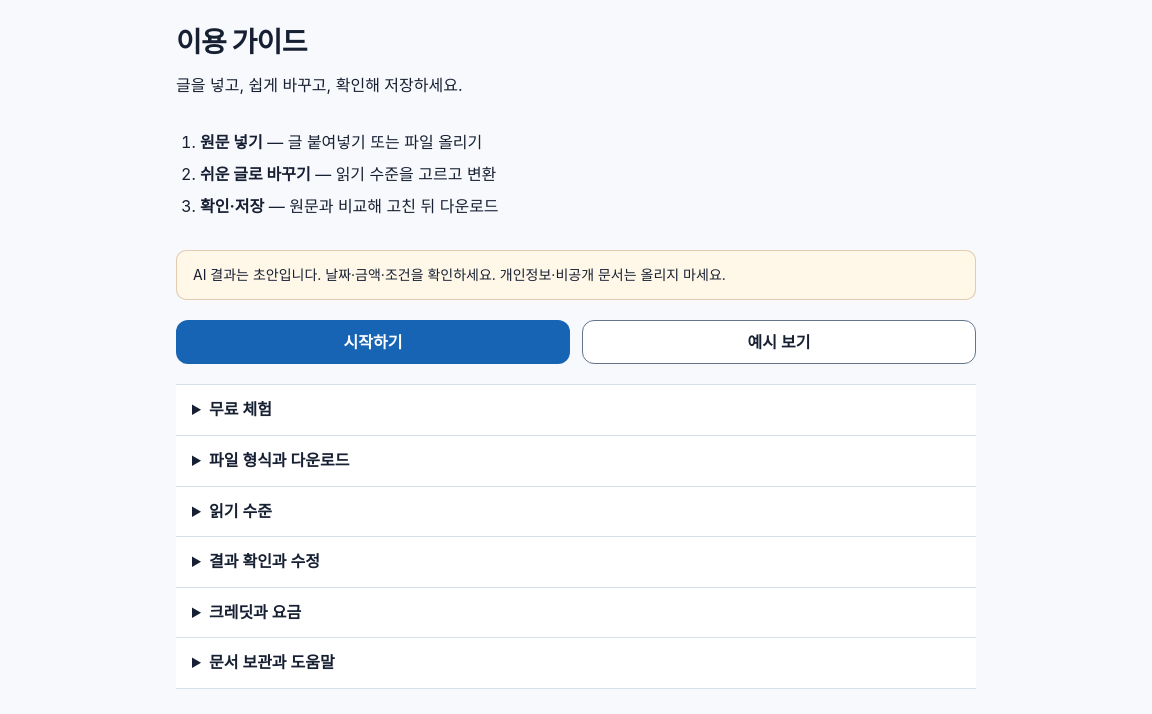
Scenario: 간결한 이용 가이드 › 체험 조건과 변환 시 크레딧 사용을 짧게 안내한다
The width and height of the screenshot is (1152, 714).
What coordinates should you click on to do the following:
click the heading "무료 체험"
I would click on:
 (240, 409)
Its box is [209,399,272,419].
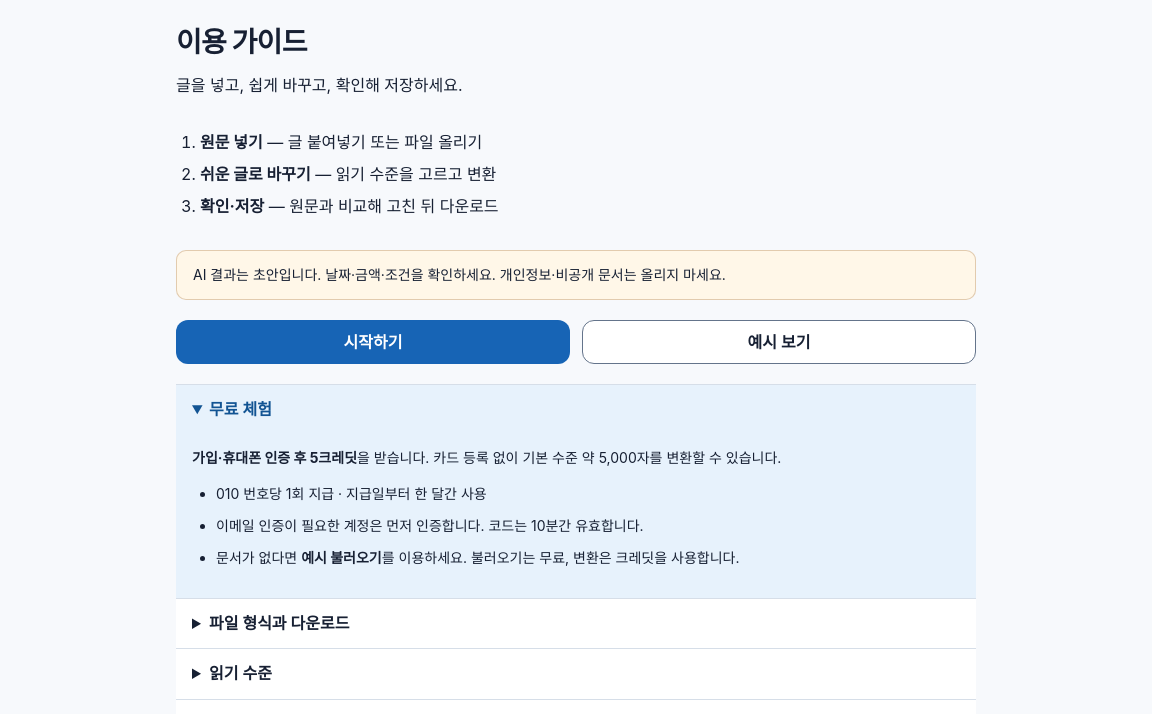
Check: the text "가입·휴대폰 인증 후 5크레딧" is shown, box [192,449,357,466]
Check: the list item "010 번호당 1회 지급 · 지급일부터 한 달간 사용" is shown, box [216,485,487,502]
Check: the list item "불러오기는 무료, 변환은 크레딧을 사용합니다" is shown, box [382,549,740,566]
